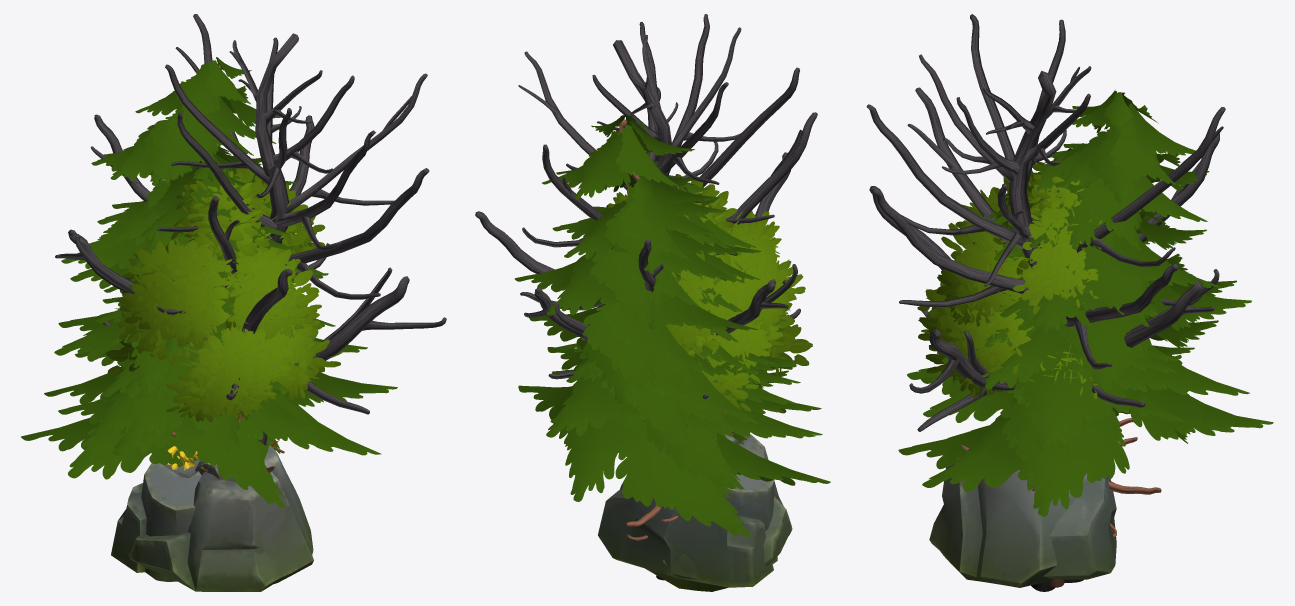
The model's file is nature.glb.
3 views of the same model, side by side, from view 1: azimuth 30°, elevation 25°; view 2: azimuth 150°, elevation 25°; view 3: azimuth 270°, elevation 25° (orthographic). The views are drawn at different scales.
Visible parts, largest first — view 1: Pine_5, CommonTree_1, DeadTree_1, Rock_Medium_1, Pine_1, Rock_Medium_2, Pine_3; view 2: Pine_5, DeadTree_1, CommonTree_1, Rock_Medium_2, Pine_1, Pine_3, Rock_Medium_1; view 3: Pine_5, DeadTree_1, CommonTree_1, Rock_Medium_1, Pine_1, Rock_Medium_2, Pine_3.
Boxes of the visible parts, bbox=[...] form: Pine_5: bbox=[21, 57, 397, 508]; CommonTree_1: bbox=[106, 161, 342, 422]; DeadTree_1: bbox=[55, 14, 446, 445]; Rock_Medium_1: bbox=[128, 445, 313, 591]; Pine_1: bbox=[58, 166, 317, 472]; Rock_Medium_2: bbox=[111, 458, 201, 581]; Pine_3: bbox=[74, 161, 313, 453]; Pine_5: bbox=[514, 115, 830, 536]; DeadTree_1: bbox=[475, 14, 817, 580]; CommonTree_1: bbox=[608, 174, 812, 415]; Rock_Medium_2: bbox=[598, 474, 777, 587]; Pine_1: bbox=[550, 183, 822, 526]; Pine_3: bbox=[566, 177, 800, 540]; Rock_Medium_1: bbox=[620, 434, 792, 591]; Pine_5: bbox=[898, 89, 1273, 516]; DeadTree_1: bbox=[866, 14, 1225, 591]; CommonTree_1: bbox=[918, 162, 1157, 587]; Rock_Medium_1: bbox=[929, 458, 1076, 587]; Pine_1: bbox=[921, 155, 1194, 494]; Rock_Medium_2: bbox=[1043, 473, 1116, 579]; Pine_3: bbox=[942, 148, 1178, 537].
Size of the model in its own units: 6.54 by 9.5 by 6.62.
Materials: 10 (10 with a texture image).
